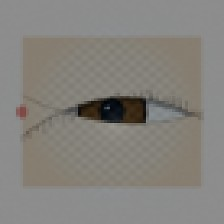pinguecula_lesion: (33, 102, 77, 137)
